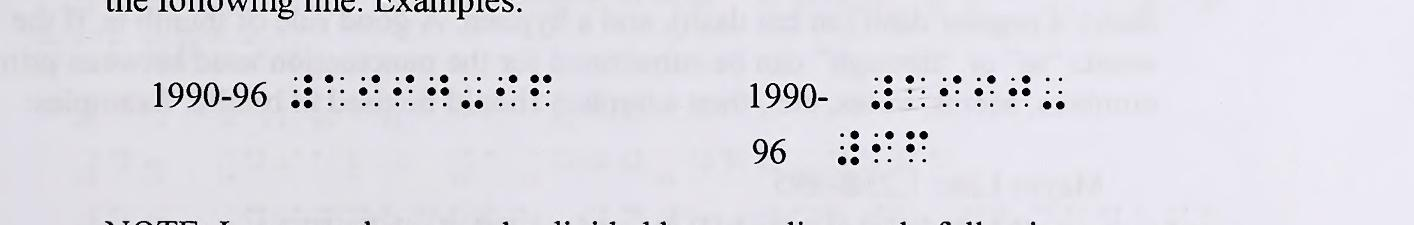digit_0: (1008, 75, 1031, 107), (427, 74, 449, 107)
digit_1: (905, 74, 925, 107), (325, 74, 344, 106)
digit_6: (530, 74, 552, 107), (906, 131, 928, 163)
digit_9: (940, 74, 962, 108), (496, 74, 518, 107), (872, 131, 894, 163), (974, 75, 996, 107), (359, 74, 380, 107), (393, 74, 414, 107)
number_sign: (291, 74, 313, 110), (871, 75, 893, 111), (838, 130, 859, 165)
